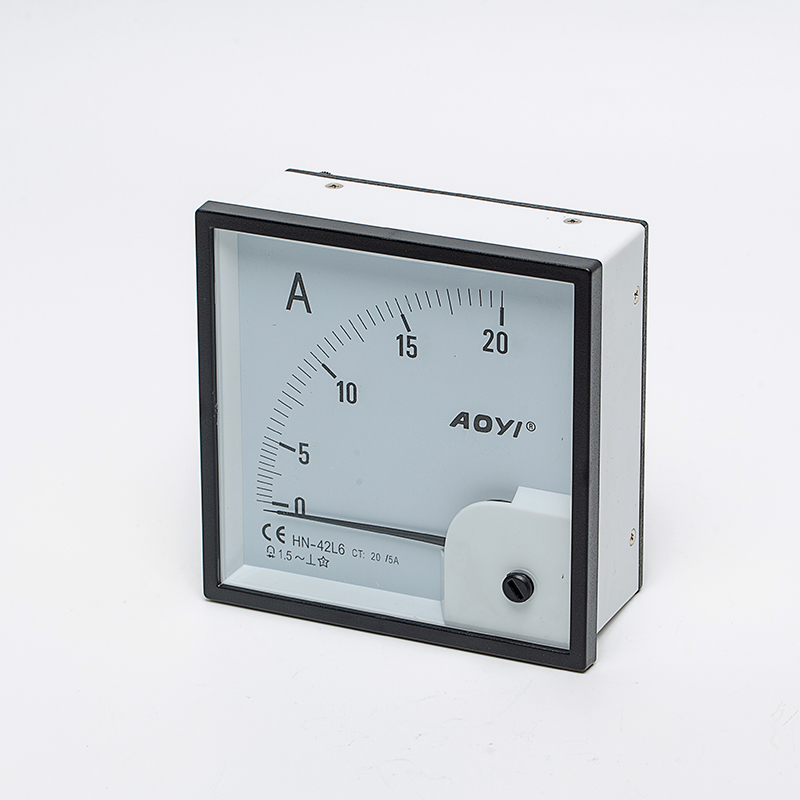pointer: (212, 224, 576, 653)
